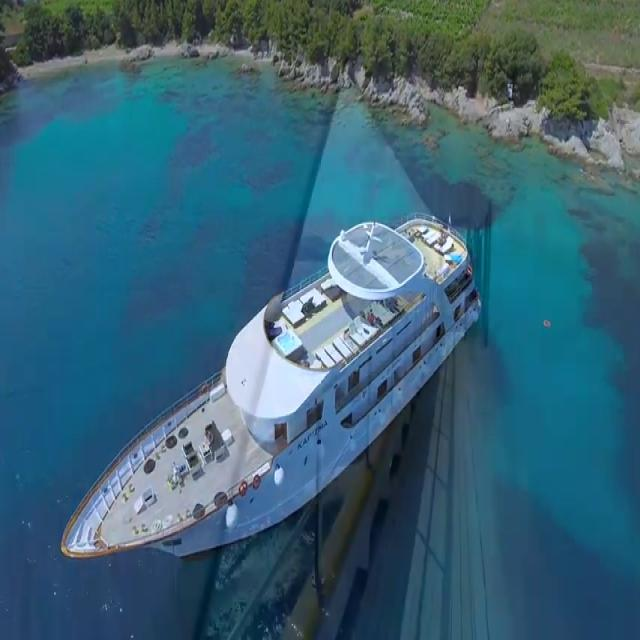passenger ship: (47, 213, 479, 570)
